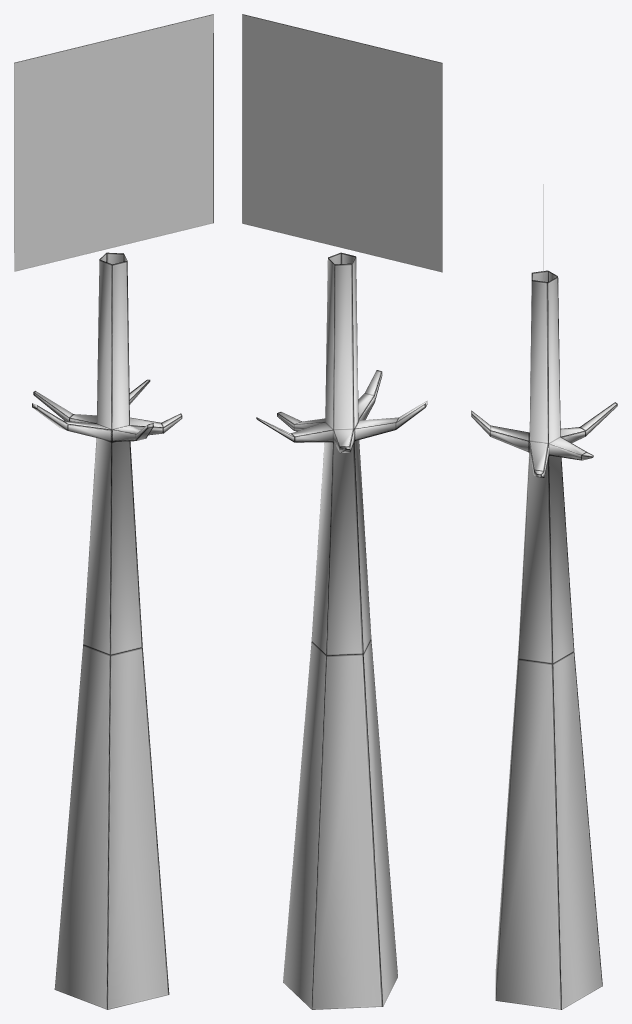
File: Arbol1.fbx
3 views of the same model, side by side, from view 1: azimuth 30°, elevation 25°; view 2: azimuth 150°, elevation 25°; view 3: azimuth 270°, elevation 25° (orthographic). The views are drawn at different scales.
Visible parts, largest first — view 1: Icosphere, Plane; view 2: Icosphere, Plane; view 3: Icosphere.
Boxes of the visible parts, x1,y1,x2,y2 form: Icosphere: [32, 252, 182, 1009]; Plane: [14, 14, 213, 271]; Icosphere: [256, 252, 427, 1009]; Plane: [242, 14, 442, 272]; Icosphere: [471, 270, 617, 1009].
Size of the model in its own units: 200 by 905 by 130.
Materials: 2 (2 with a texture image).
